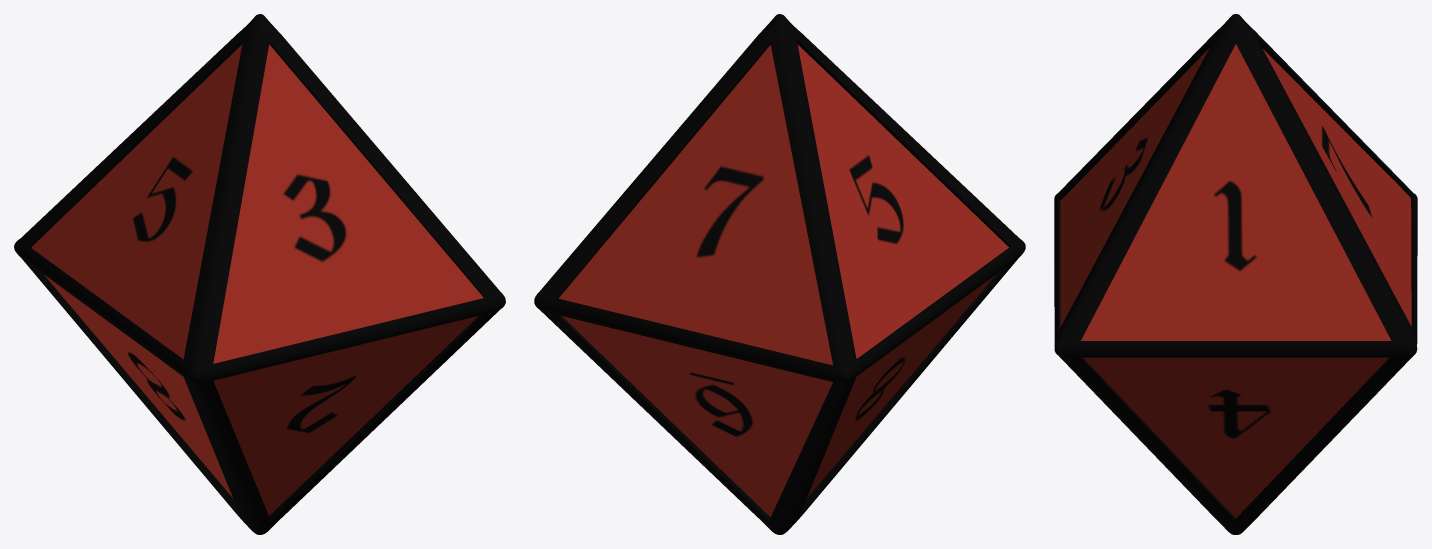
File: dice_d8.glb
The picture shows the model from 3 angles, left to right: view 1: azimuth 30°, elevation 25°; view 2: azimuth 150°, elevation 25°; view 3: azimuth 270°, elevation 25°; orthographic projection.
Visible parts, largest first — view 1: Cube; view 2: Cube; view 3: Cube.
Boxes of the visible parts, left/top/right/bottom form: Cube: left=14, top=14, right=505, bottom=534; Cube: left=534, top=14, right=1025, bottom=534; Cube: left=1054, top=14, right=1417, bottom=534.
Size of the model in its own units: 2.08 by 3.28 by 2.08.
Materials: 1 (1 with a texture image).
